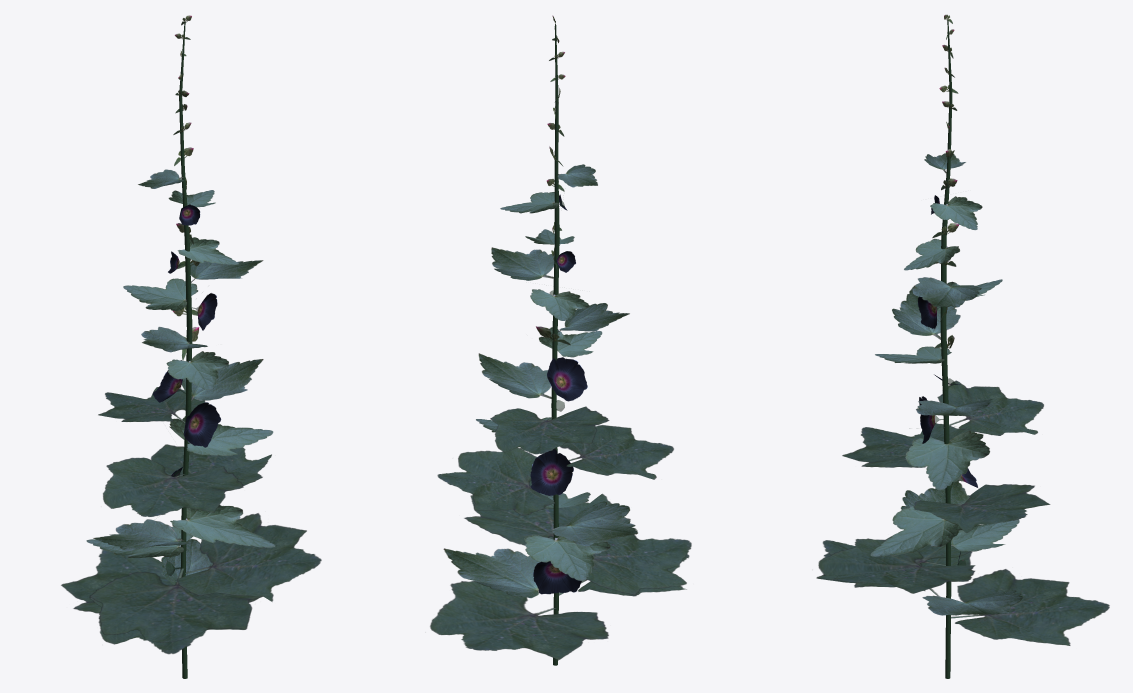
Rendered from hollyhock_180cm.glb.
3 renders of one model, left to right at view 1: azimuth 30°, elevation 25°; view 2: azimuth 150°, elevation 25°; view 3: azimuth 270°, elevation 25°, orthographic. The views are drawn at different scales.
Visible parts, largest first — view 1: hollyhock; view 2: hollyhock; view 3: hollyhock.
Boxes of the visible parts, left/top/right/bottom form: hollyhock: left=61, top=15, right=321, bottom=678; hollyhock: left=430, top=15, right=691, bottom=665; hollyhock: left=816, top=14, right=1109, bottom=678.
Bounding box in the file's own units: 0.8263 × 1.79 × 0.8645.
1 material, 1 textured.
